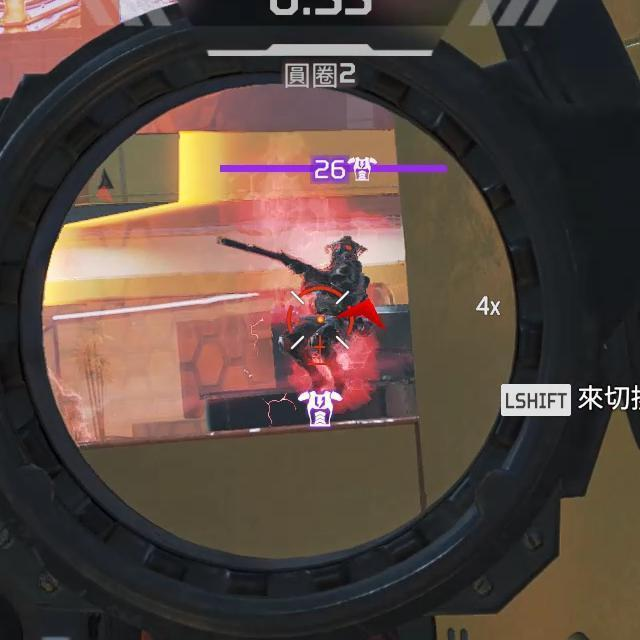avatar: (280, 232, 373, 393)
